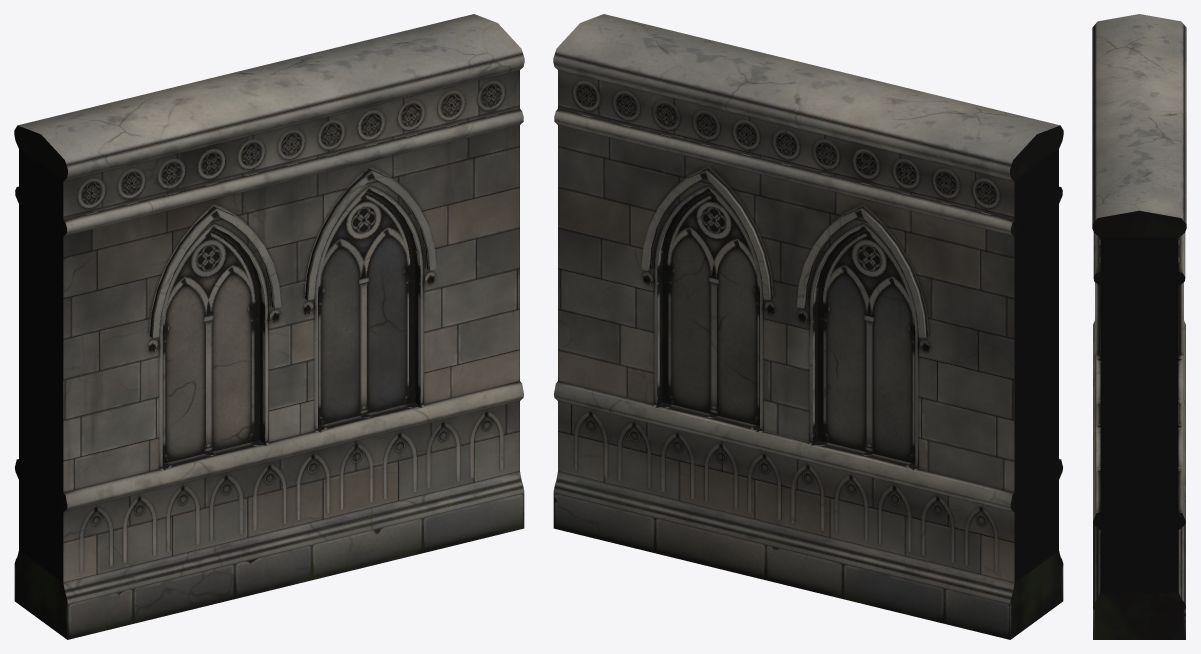
File: cathedral_wall.glb
The picture shows the model from 3 angles, left to right: view 1: azimuth 30°, elevation 25°; view 2: azimuth 150°, elevation 25°; view 3: azimuth 270°, elevation 25°; orthographic projection. The views are drawn at different scales.
Parts seen in each view (by area): view 1: cathedral_wall; view 2: cathedral_wall; view 3: cathedral_wall.
Boxes of the visible parts, <box> form: cathedral_wall: <box>14,14,524,639</box>; cathedral_wall: <box>553,14,1063,639</box>; cathedral_wall: <box>1092,14,1186,639</box>.
Size of the model in its own units: 4 by 4.07 by 0.81.
Materials: 1 (1 with a texture image).
